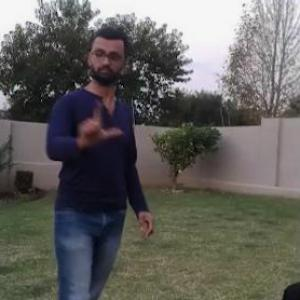land_hand: (73, 99, 123, 148)
